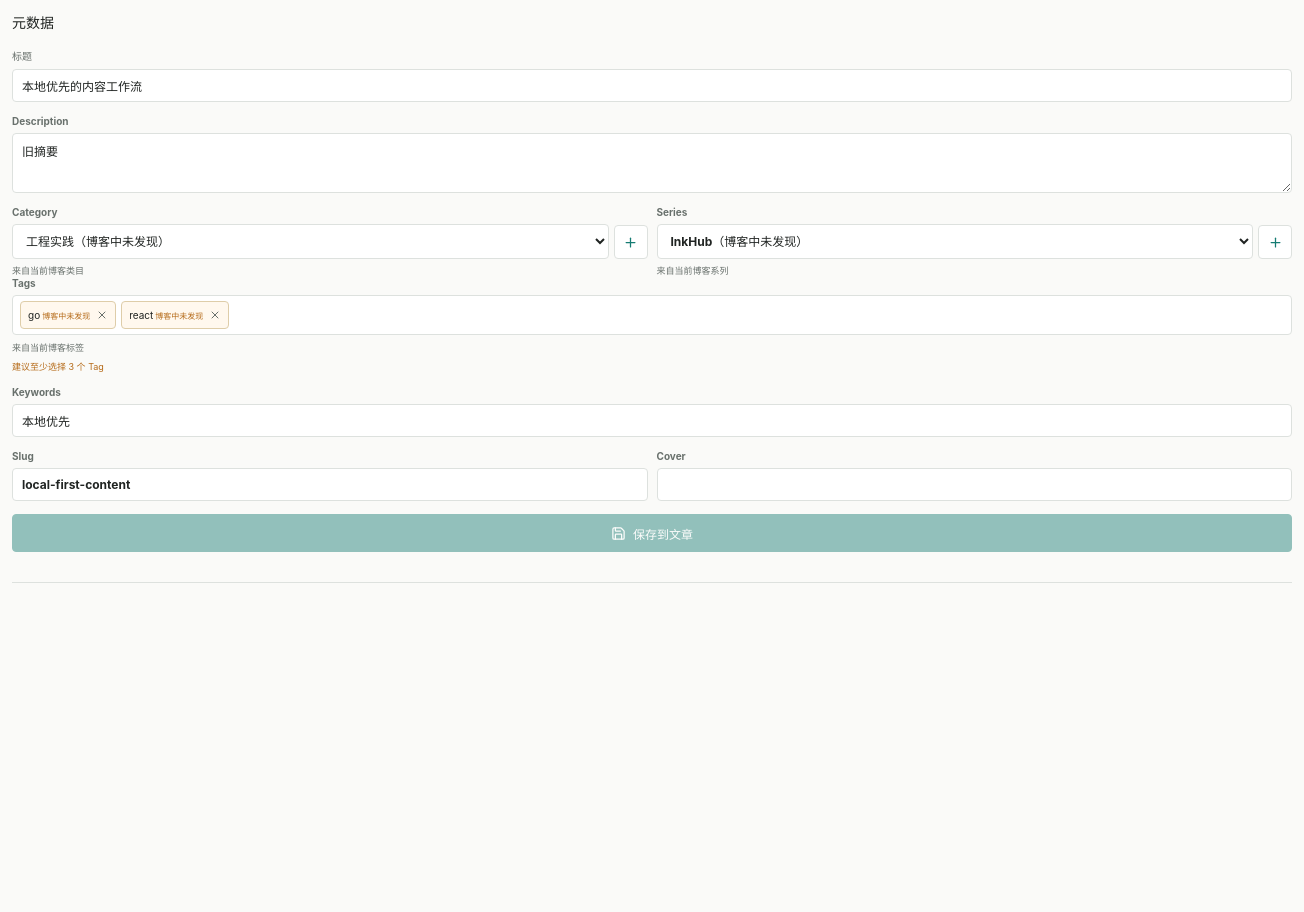
Test case: 新建 Category 只回填草稿而不提前保存文章
Click the button named "新建类目". click: (630, 242)
box: [614,225,648,259]
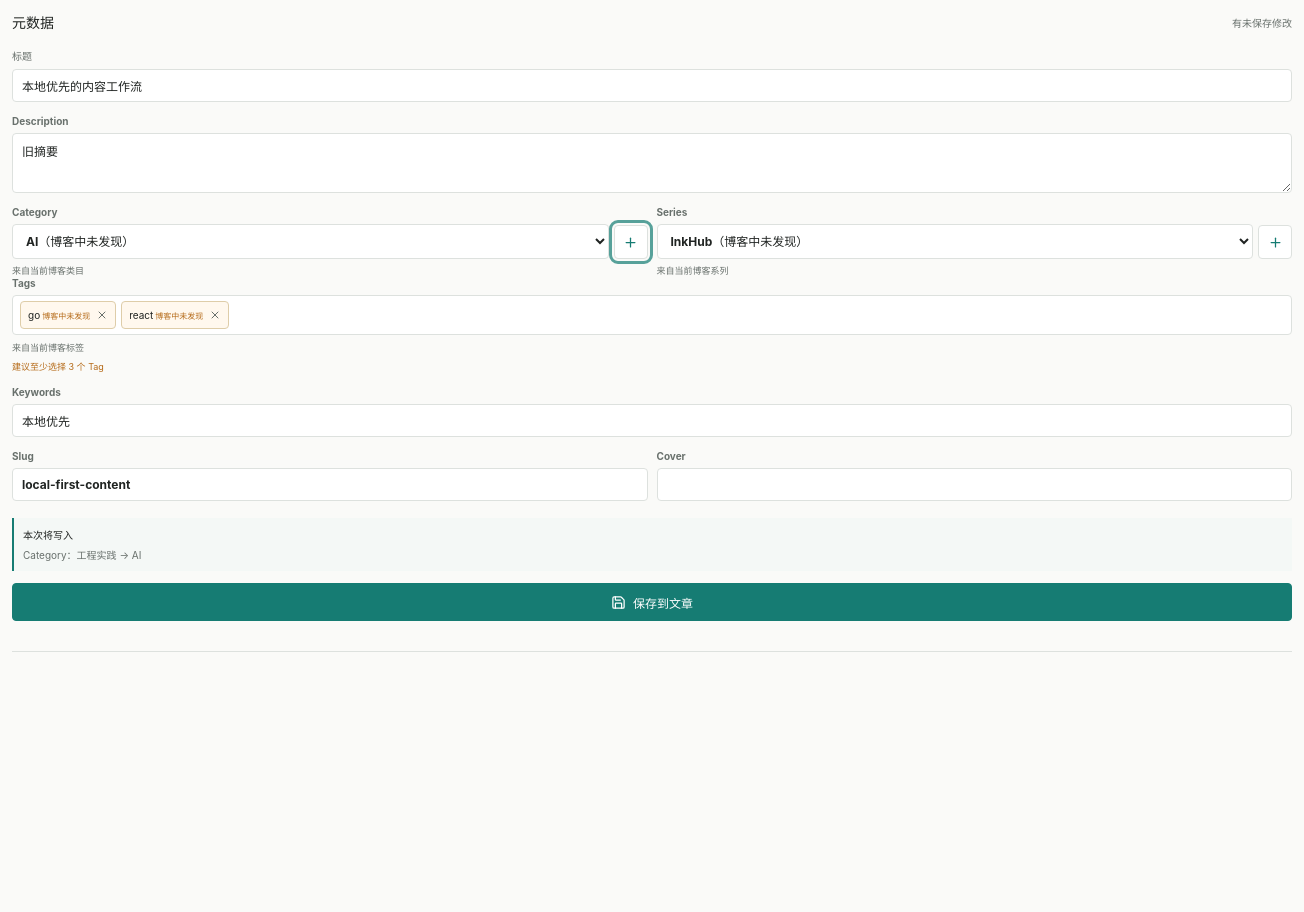
Now the text "Category：工程实践 → AI" is shown, box [23,549,141,561]
